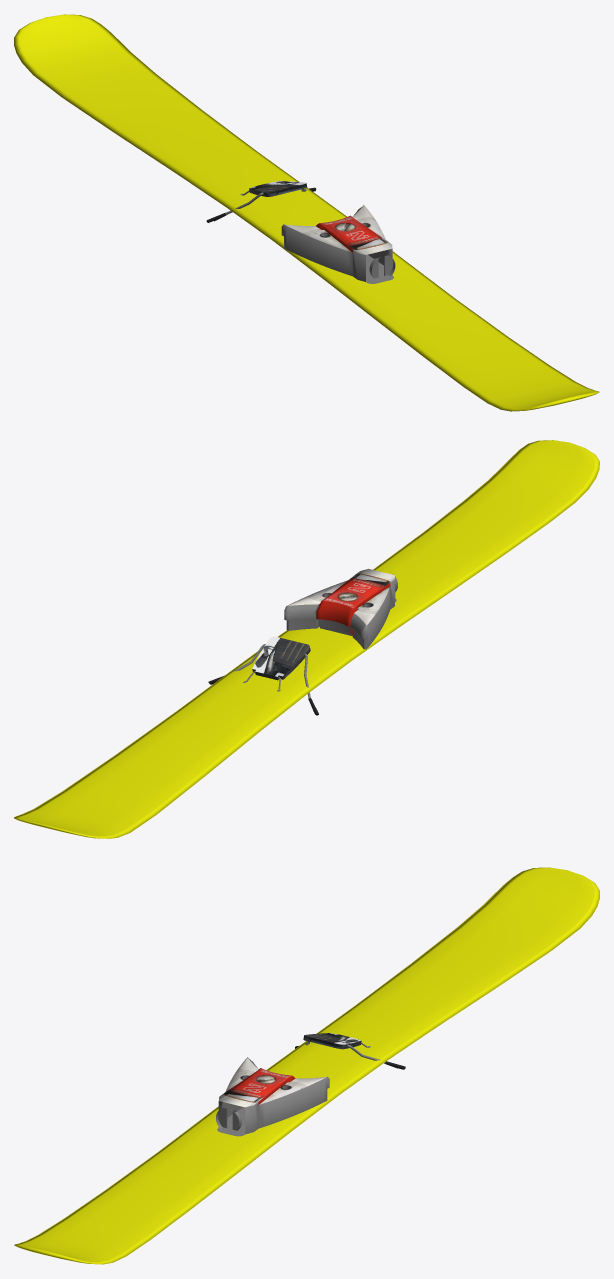
The model's file is sci.glb.
3 renders of one model, top to bottom at view 1: azimuth 30°, elevation 25°; view 2: azimuth 150°, elevation 25°; view 3: azimuth 330°, elevation 25°, orthographic.
Visible parts, largest first — view 1: Plane, Object_90.001, Object_94.001, Object_119.001; view 2: Plane, Object_90.001, Object_94.001, Object_119.001, Object_92.001; view 3: Plane, Object_90.001, Object_94.001, Object_119.001.
Boxes of the visible parts, left/top/right/bottom form: Plane: left=14, top=14, right=599, bottom=411; Object_90.001: left=281, top=206, right=393, bottom=283; Object_94.001: left=284, top=205, right=392, bottom=275; Object_119.001: left=249, top=181, right=307, bottom=196; Plane: left=14, top=440, right=599, bottom=838; Object_90.001: left=284, top=576, right=396, bottom=649; Object_94.001: left=286, top=568, right=394, bottom=625; Object_119.001: left=252, top=636, right=310, bottom=680; Object_92.001: left=316, top=583, right=390, bottom=635; Plane: left=14, top=867, right=599, bottom=1264; Object_90.001: left=217, top=1058, right=329, bottom=1136; Object_94.001: left=219, top=1057, right=327, bottom=1128; Object_119.001: left=303, top=1033, right=361, bottom=1049.
Size of the model in its own units: 0.345 by 0.1328 by 2.84.
7 materials, 1 textured.
